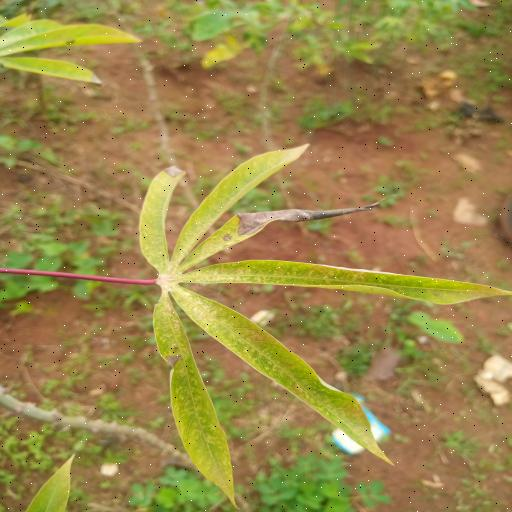Cassava_Mosaic: (134, 141, 512, 511)
